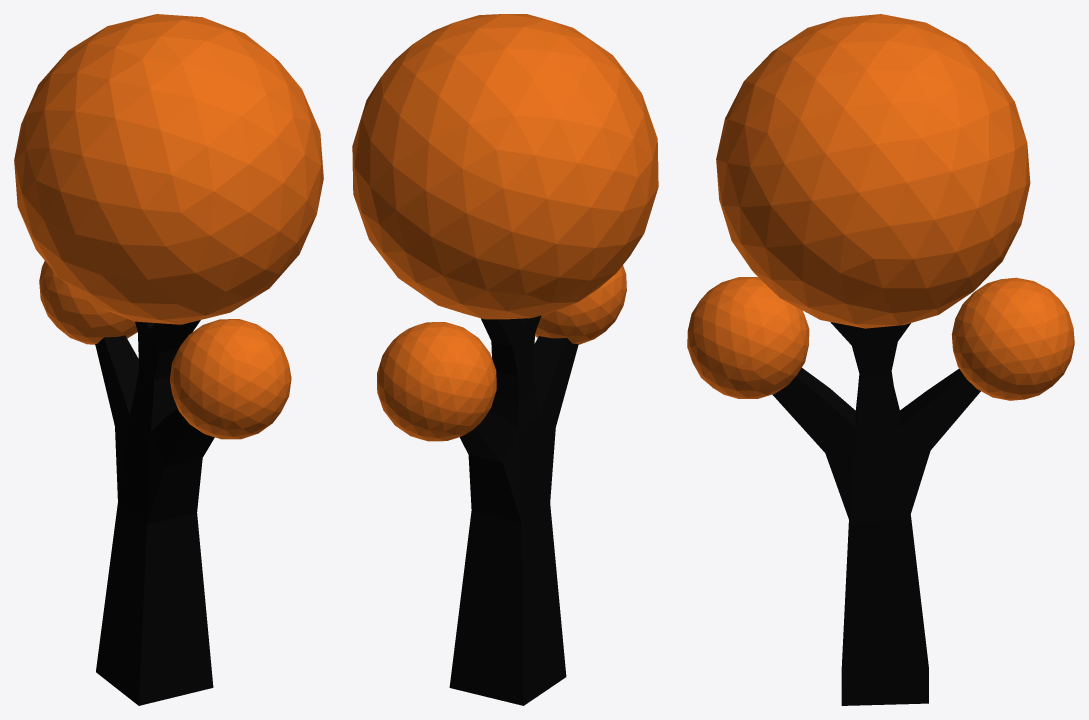
Rendered from HotTrees4.fbx.
3 views of the same model, side by side, from view 1: azimuth 30°, elevation 25°; view 2: azimuth 150°, elevation 25°; view 3: azimuth 270°, elevation 25° (orthographic).
Parts seen in each view (by area): view 1: Icosphere.005, Cube.004, Icosphere.007, Icosphere.006; view 2: Icosphere.005, Cube.004, Icosphere.006, Icosphere.007; view 3: Icosphere.005, Cube.004, Icosphere.006, Icosphere.007.
Boxes of the visible parts, x1,y1,x2,y2 form: Icosphere.005: [14, 14, 323, 324]; Cube.004: [95, 320, 214, 705]; Icosphere.007: [170, 319, 291, 439]; Icosphere.006: [39, 260, 137, 344]; Icosphere.005: [352, 14, 658, 319]; Cube.004: [449, 315, 578, 705]; Icosphere.006: [377, 322, 496, 441]; Icosphere.007: [535, 265, 626, 344]; Icosphere.005: [716, 14, 1030, 328]; Cube.004: [772, 322, 980, 705]; Icosphere.006: [951, 277, 1074, 400]; Icosphere.007: [687, 277, 809, 398].
Bounding box in the file's own units: 1.51 × 3.52 × 1.87.
